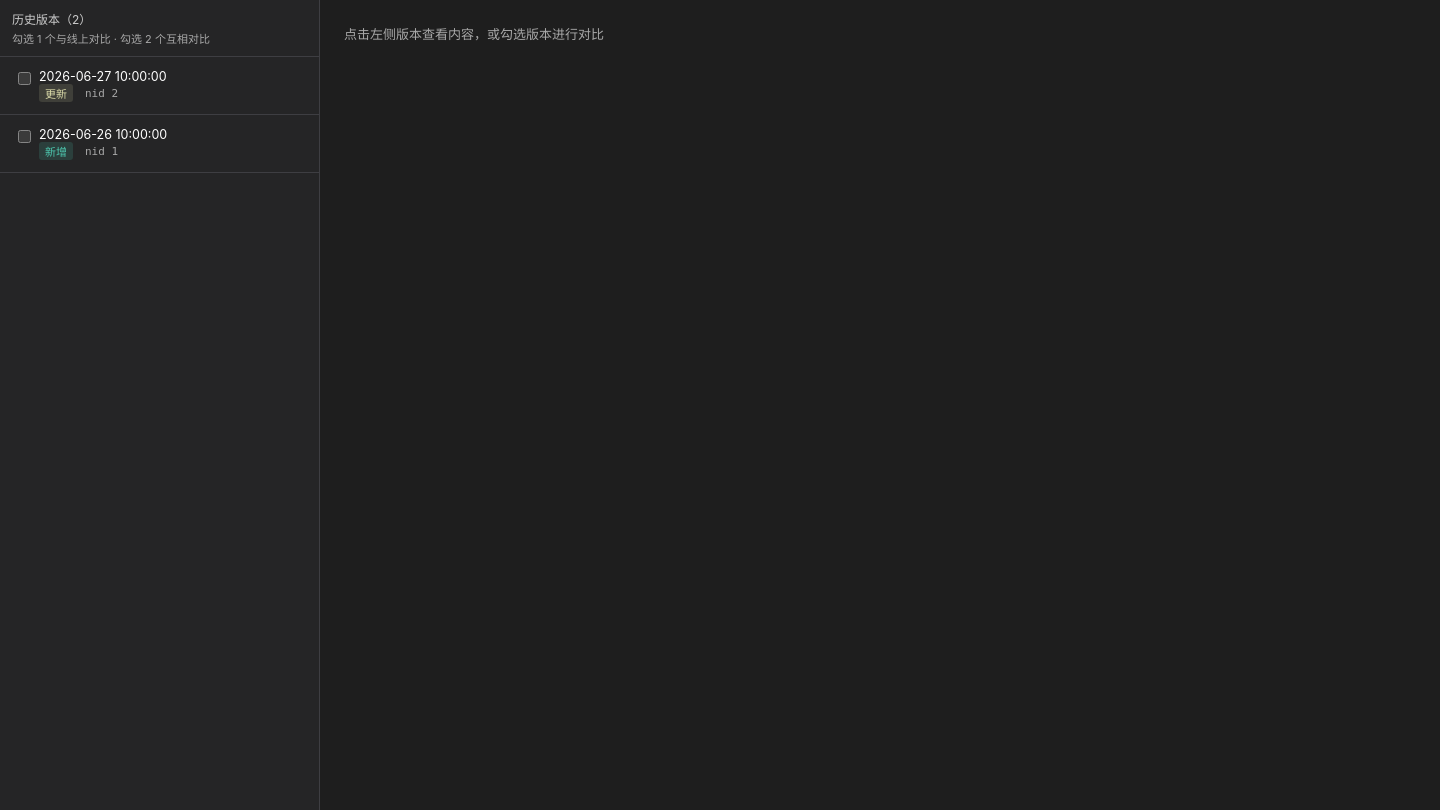
Test: HistoryView › 第一下只进入就地二次确认，不生成计划也不写操作历史
What coordinates should you click on to do the following:
click the text "nid 2"
I would click on:
 (102, 93)
Its box is [85,86,118,100].
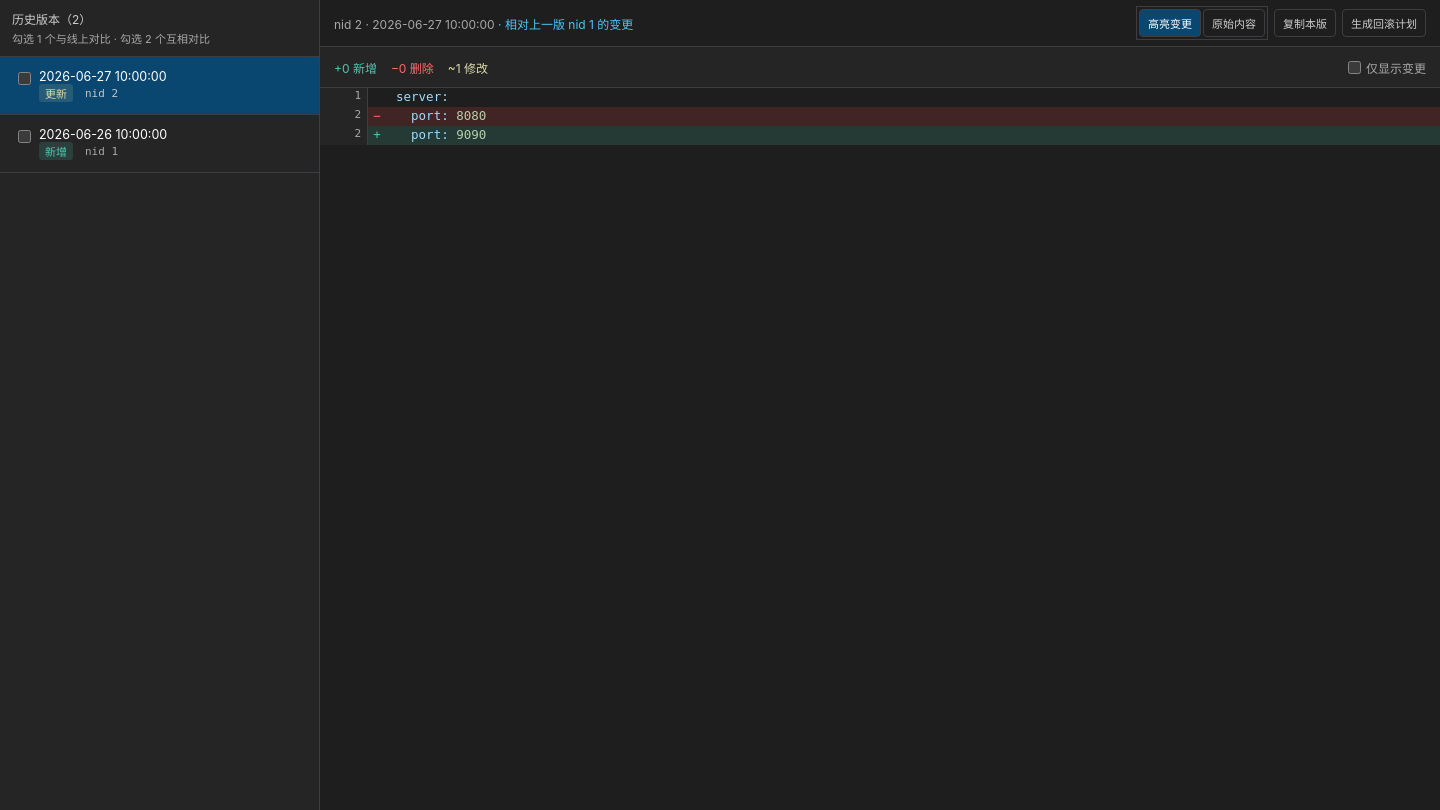
Now the text "· 相对上一版 nid 1 的变更" is shown, box [495,16,633,32]
What coordinates should you click on to do the following:
click the button "生成回滚计划"
I would click on:
 (1384, 23)
Its box is [1342,9,1426,37].
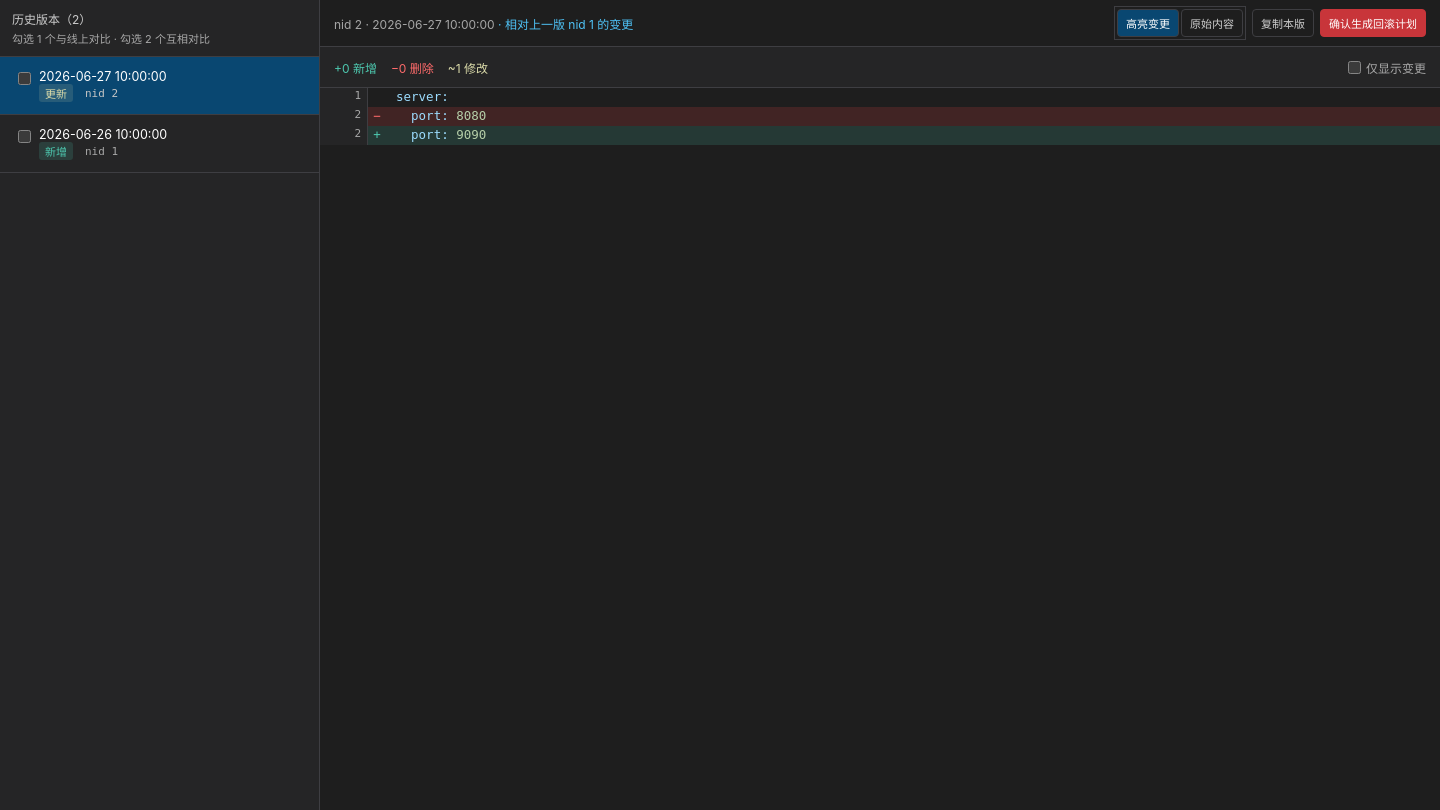
Now the button "确认生成回滚计划" is shown, box [1320,9,1426,37]
